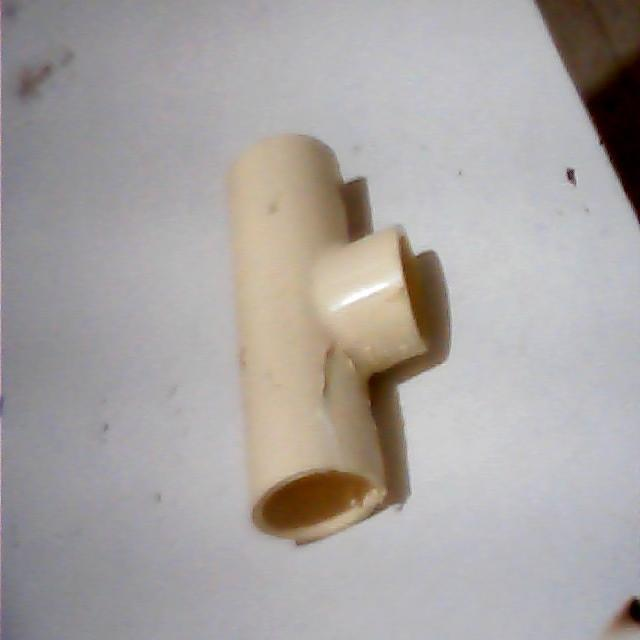Defective: (308, 336, 376, 436)
T Joint: (227, 135, 428, 537)
